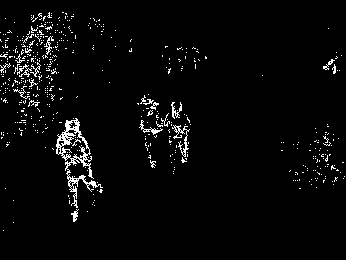person: (56, 118, 104, 222), (137, 94, 165, 169), (167, 101, 189, 174)
